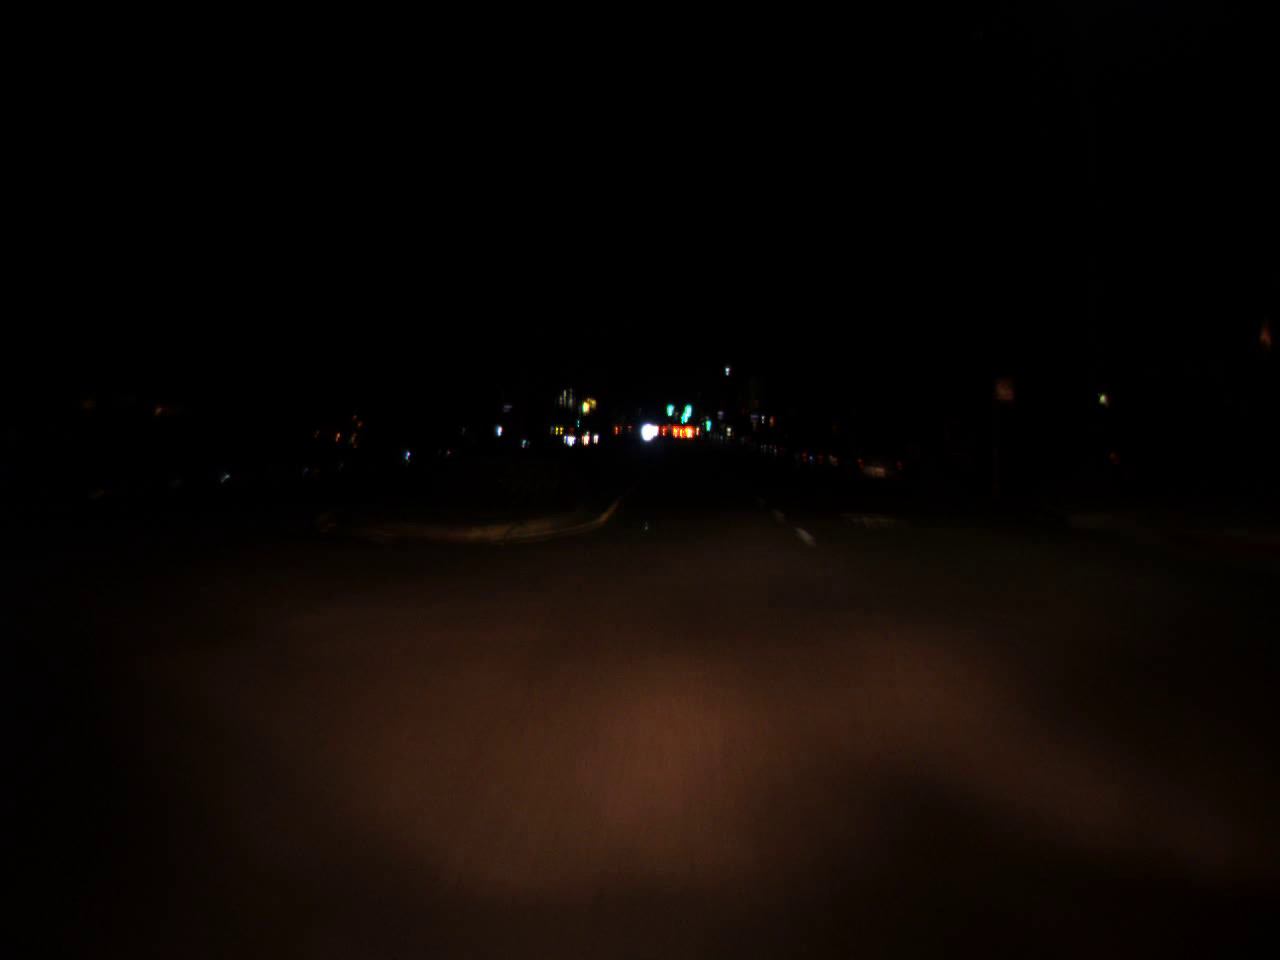go: (664, 394, 674, 418), (681, 394, 691, 418), (705, 411, 712, 432)
